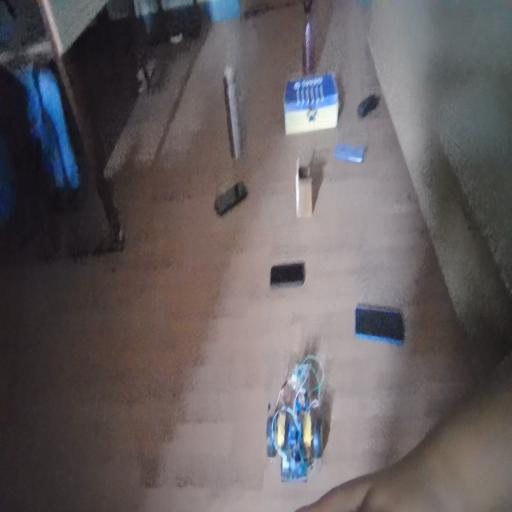Bottle: (298, 0, 323, 79)
car: (261, 332, 321, 449)
